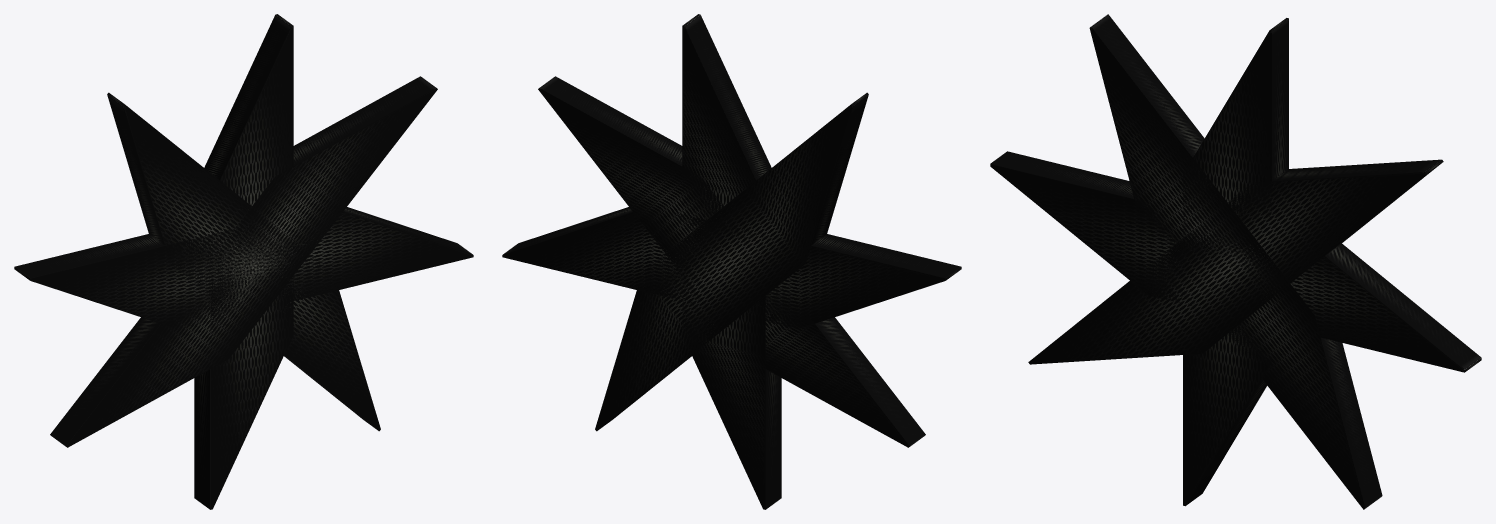
Rendered from shuriken.fbx.
3 views of the same model, side by side, from view 1: azimuth 30°, elevation 25°; view 2: azimuth 150°, elevation 25°; view 3: azimuth 330°, elevation 25° (orthographic). The views are drawn at different scales.
Visible parts, largest first — view 1: Box004, Box002, Box001, Box003; view 2: Box003, Box004, Box001, Box002; view 3: Box003, Box004, Box002, Box001.
Boxes of the visible parts, x1,y1,x2,y2 form: Box004: (50, 76, 437, 447); Box002: (14, 207, 473, 329); Box001: (194, 14, 293, 509); Box003: (107, 92, 380, 431); Box003: (595, 92, 868, 431); Box004: (538, 76, 925, 447); Box001: (682, 14, 781, 509); Box002: (502, 207, 961, 329); Box003: (1089, 14, 1382, 509); Box004: (1028, 159, 1443, 364); Box002: (990, 151, 1481, 372); Box001: (1183, 18, 1288, 506).
Bounding box in the file's own units: 160 × 10 × 160.
Materials: 4 (4 with a texture image).
